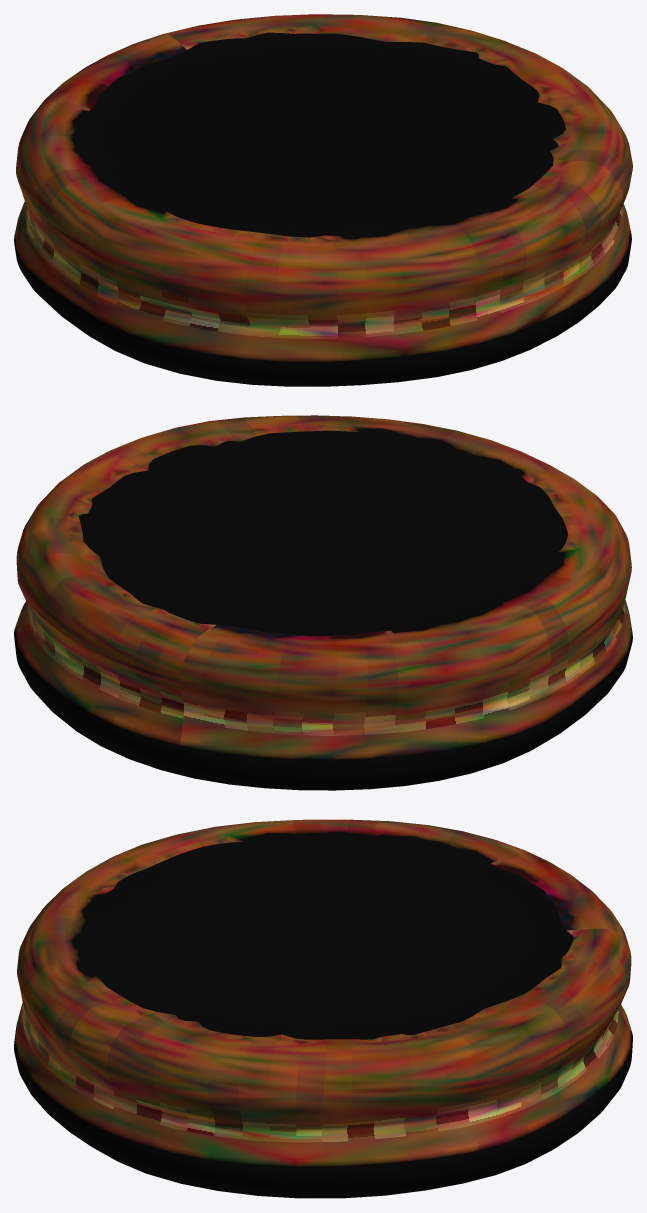
File: PizzaCheezyPuck_SM.glb
3 views of the same model, one above another, from view 1: azimuth 30°, elevation 25°; view 2: azimuth 150°, elevation 25°; view 3: azimuth 270°, elevation 25° (orthographic).
Parts seen in each view (by area): view 1: PizzaCheezyPuck_SM; view 2: PizzaCheezyPuck_SM; view 3: PizzaCheezyPuck_SM.
Part boxes in pixels (bbox=[...]): PizzaCheezyPuck_SM: bbox=[14, 14, 632, 386]; PizzaCheezyPuck_SM: bbox=[14, 415, 632, 790]; PizzaCheezyPuck_SM: bbox=[14, 819, 632, 1198].
Bounding box in the file's own units: 2.2 × 0.5722 × 2.21.
Materials: 1 (1 with a texture image).
